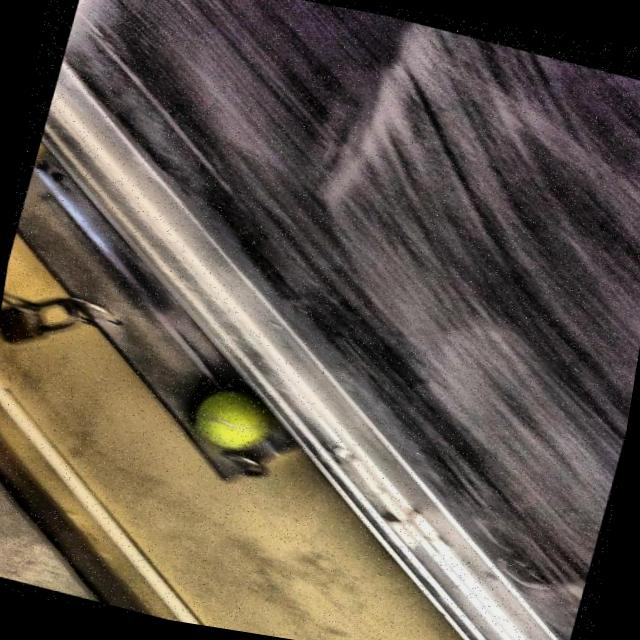tennis-ball: (181, 373, 283, 460)
